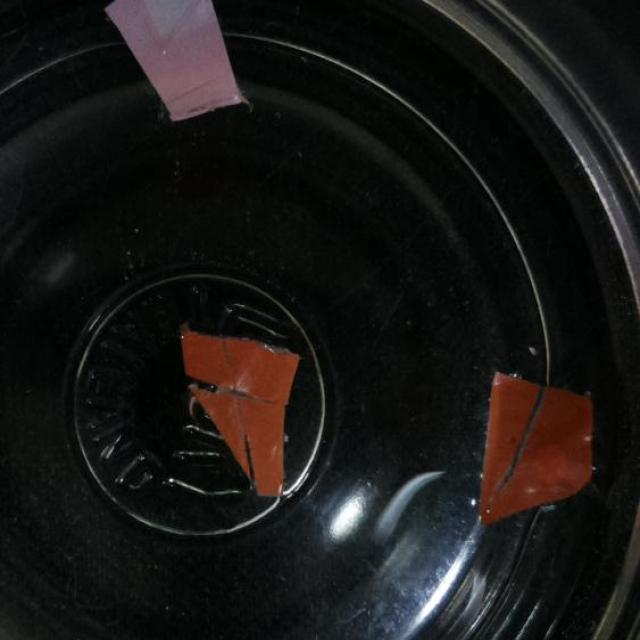fiber: (168, 322, 301, 511), (88, 0, 254, 123), (480, 360, 592, 537)
